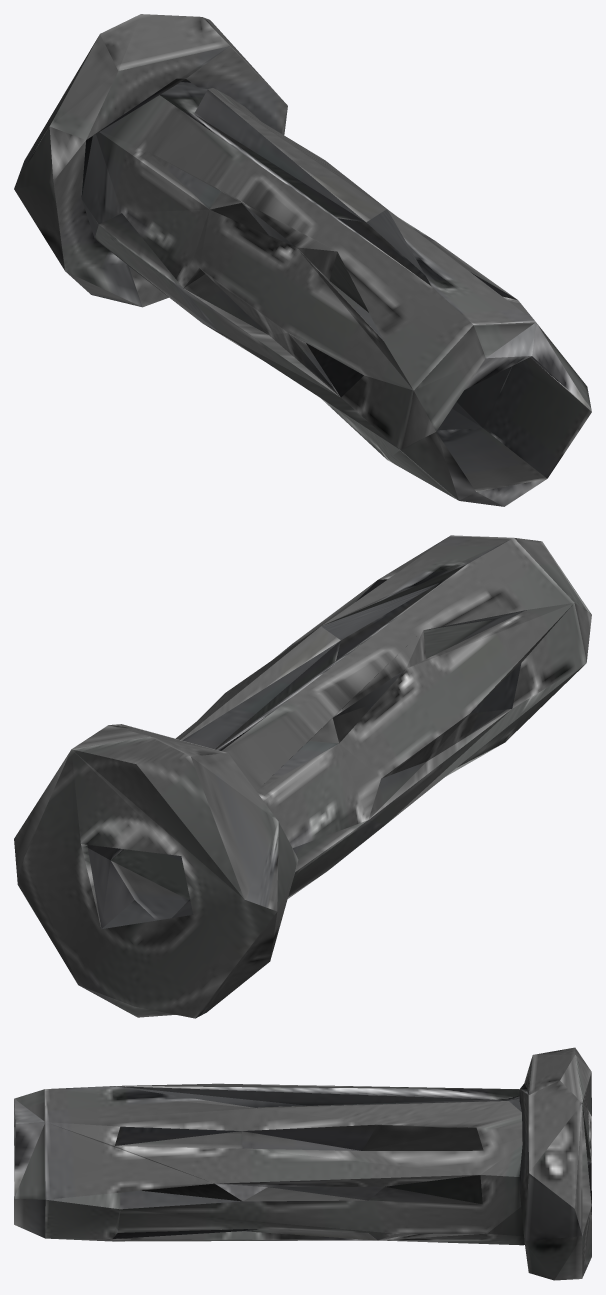
The model's file is shared_flak_tower_large_option__barrel_lod2.glb.
3 renders of one model, top to bottom at view 1: azimuth 30°, elevation 25°; view 2: azimuth 150°, elevation 25°; view 3: azimuth 270°, elevation 25°, orthographic. The views are drawn at different scales.
Parts seen in each view (by area): view 1: mesh_node; view 2: mesh_node; view 3: mesh_node.
Boxes of the visible parts, bbox=[...] form: mesh_node: bbox=[14, 14, 591, 506]; mesh_node: bbox=[14, 535, 591, 1018]; mesh_node: bbox=[14, 1047, 591, 1280].
Bounding box in the file's own units: 1 × 1.03 × 2.5.
1 material, 1 textured.
